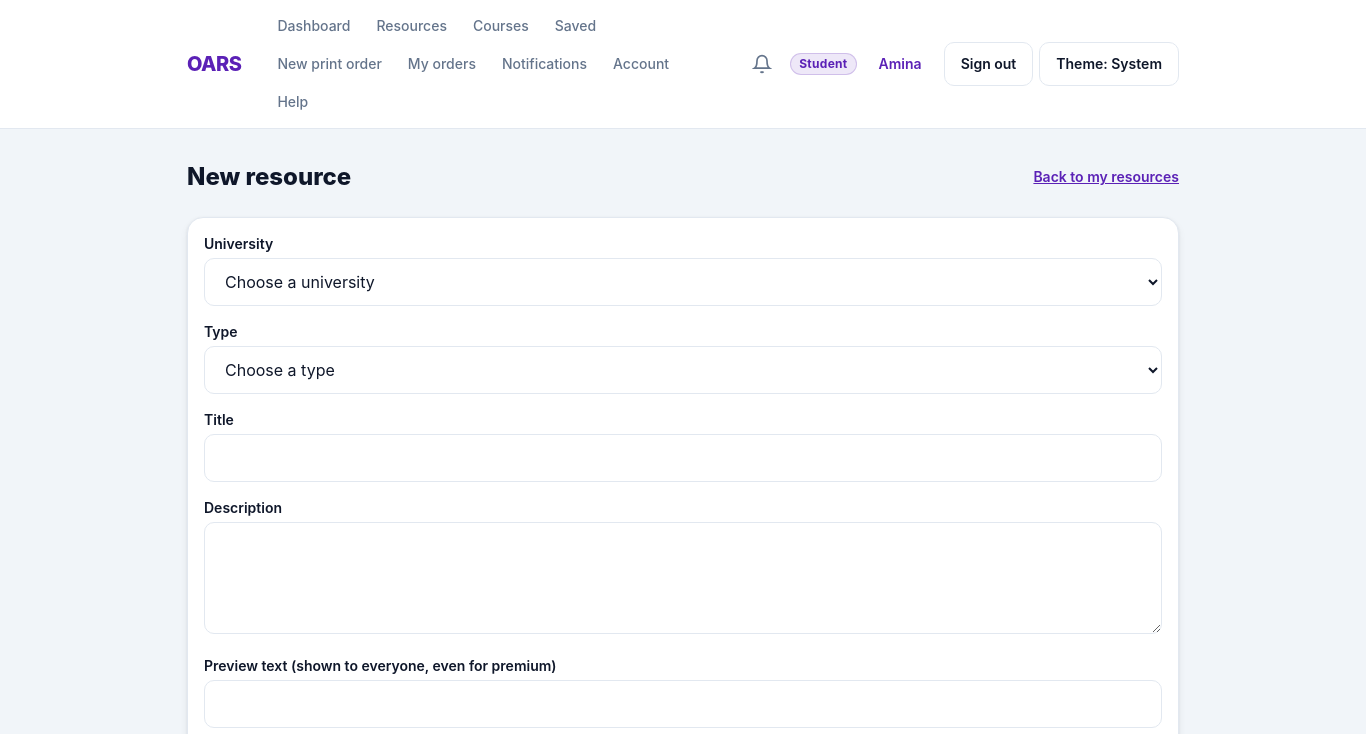
Scenario: provider pages › creates a draft with normalised tags and no price for free resources
Step 1. Select "Makerere University" in the dropdown labelled "University" → {"x": 683, "y": 282}, box [204,258,1162,306]
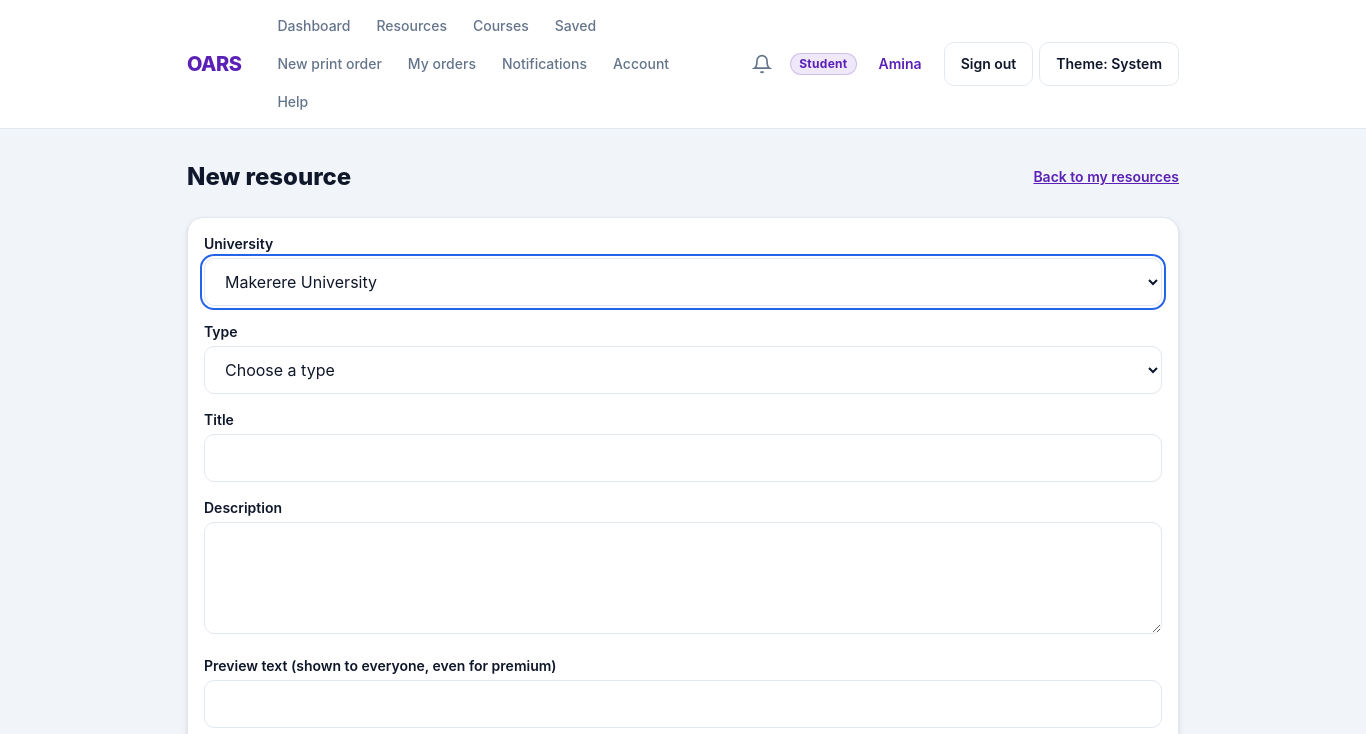
Step 2. Select "Notes" in the dropdown labelled "Type" → {"x": 683, "y": 370}, box [204,346,1162,394]
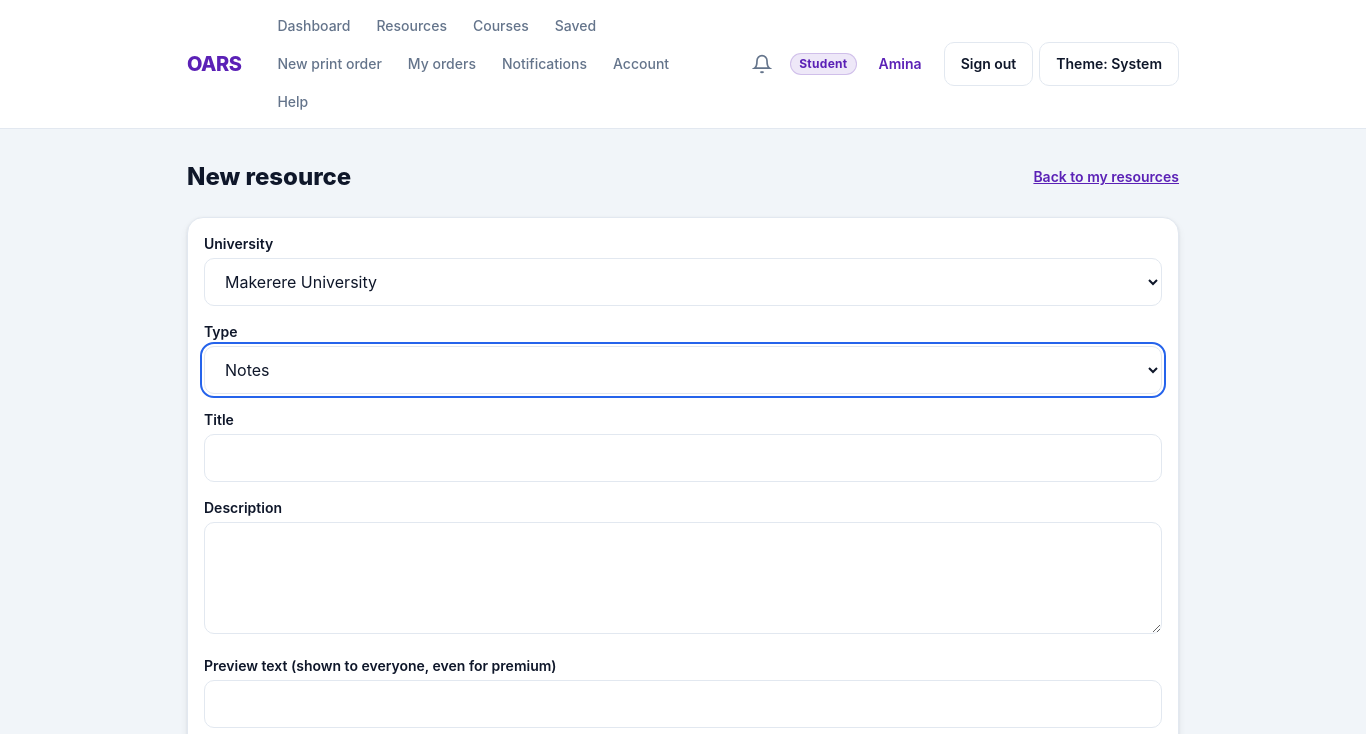
Step 3. Type "Calculus notes" into the field labelled "Title" → {"x": 683, "y": 458}, box [204,434,1162,482]
(page scrolled)
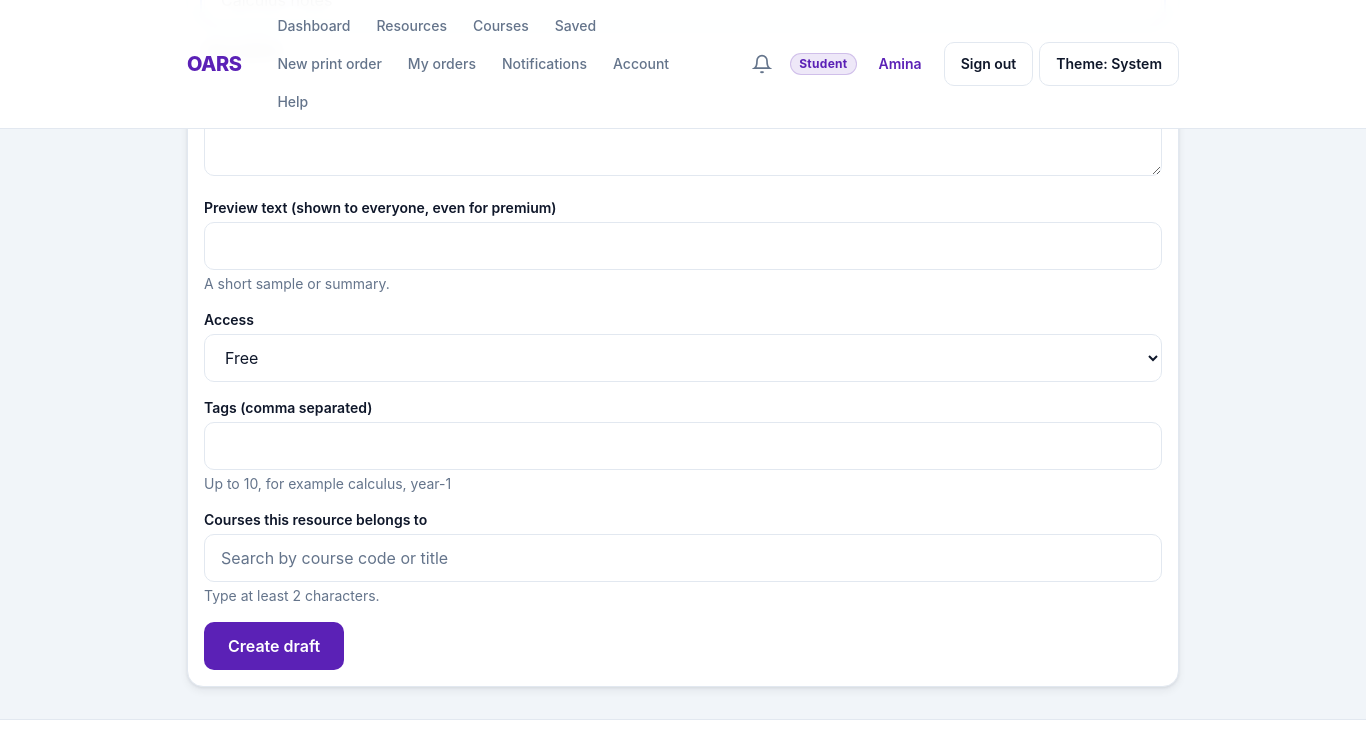
Step 4. Type "Calculus, year-1 , calculus" into the field labelled "Tags (comma separated)" → {"x": 683, "y": 446}, box [204,422,1162,470]
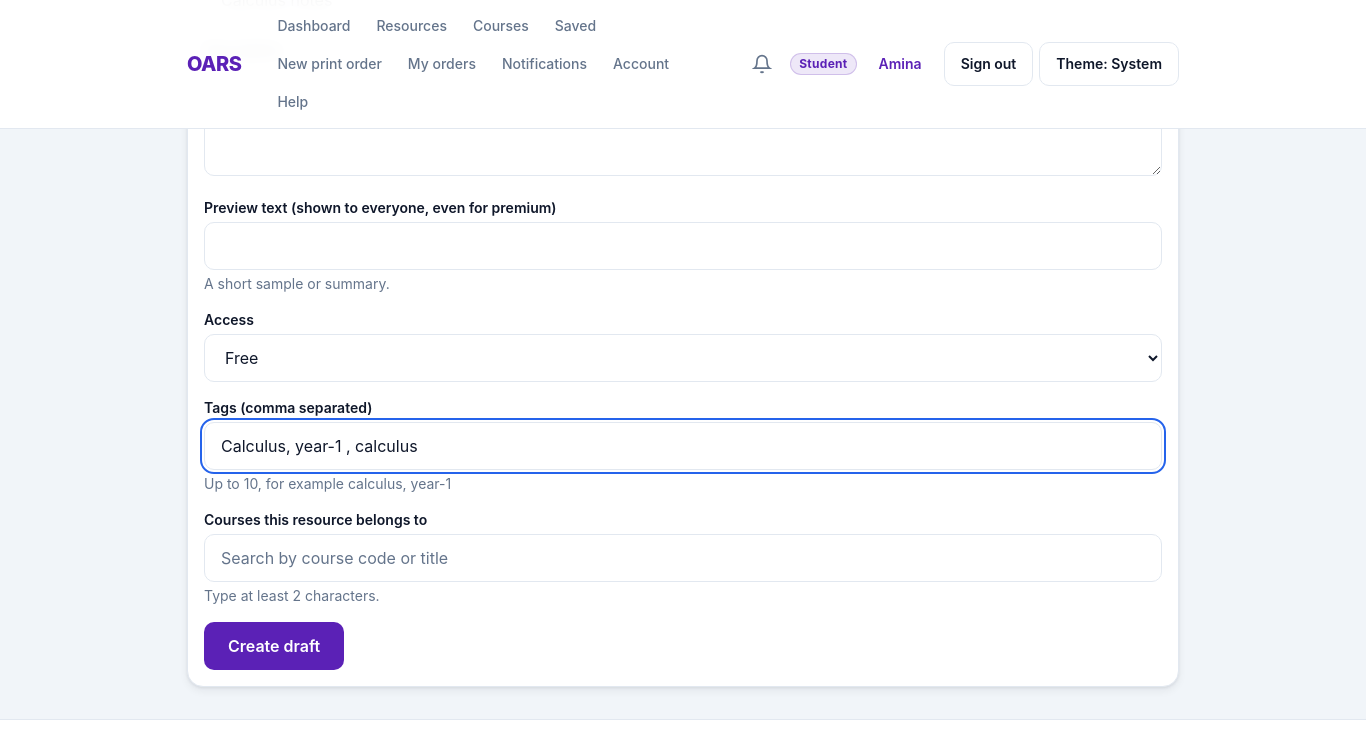
Step 5. Click the button "Create draft" → {"x": 274, "y": 646}, box [204,622,344,670]
(page scrolled)
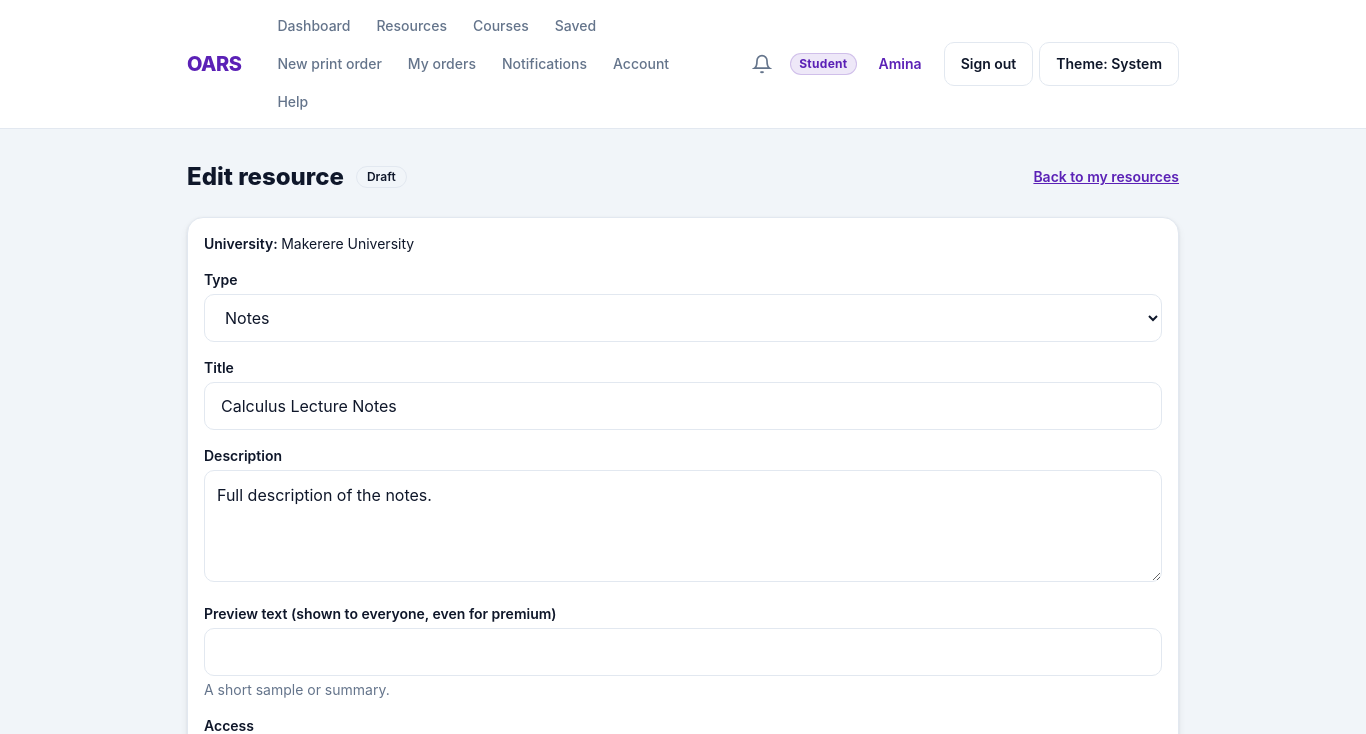
Check: the heading "Edit resource" is shown, box [187,161,344,193]
